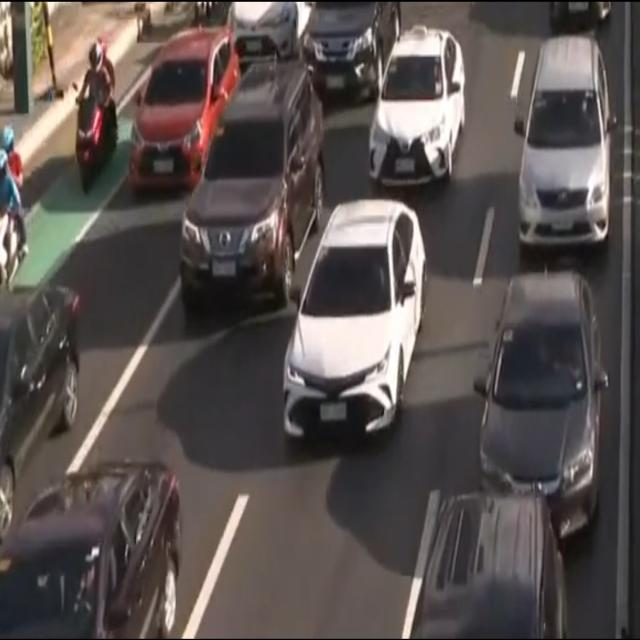Motorcycle: (76, 39, 121, 191), (0, 126, 32, 298)
SUV: (185, 72, 324, 312), (408, 490, 570, 640), (518, 37, 612, 250), (297, 0, 398, 107)
Sedan: (2, 452, 184, 640), (286, 201, 425, 446), (480, 270, 601, 545), (0, 278, 83, 522), (130, 33, 238, 191), (372, 21, 464, 194), (218, 0, 307, 65)
